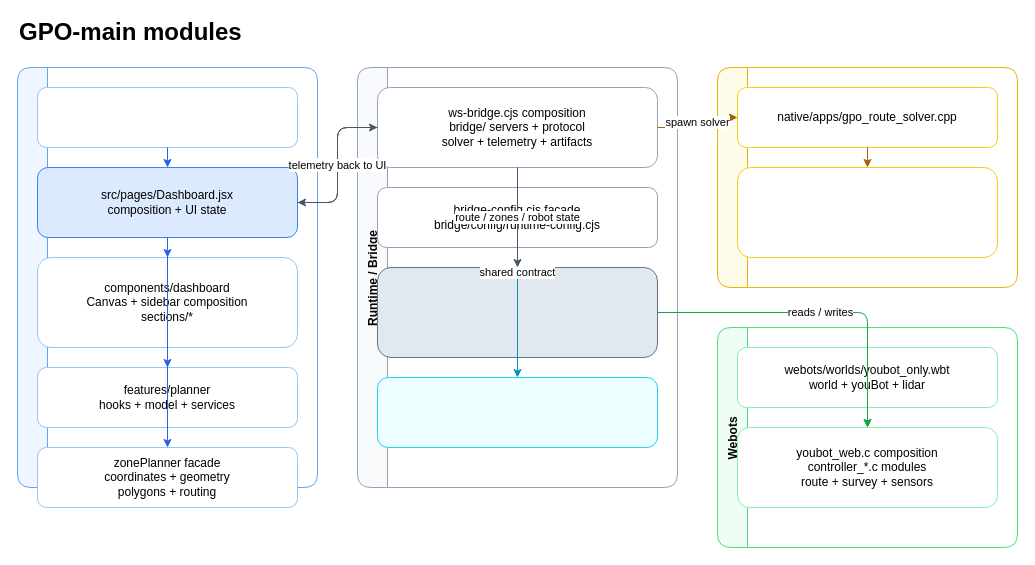
This 1035x565 diagram has some shape labels left out. Each missing label, with the box of its shape:
Frontend: (16, 66, 318, 488)
Native Solver: (716, 66, 1018, 288)
native/src/* ga_tabu.cpp annealing.cpp scatter.cpp cuckoo.cpp common.cpp: (736, 166, 998, 258)
shared/coordinate-contract.json common telemetry / route format: (376, 376, 658, 448)
src/main.jsx src/App.jsx: (36, 86, 298, 148)
web_state/* route.csv / route.json limit_zones.* / robot_state.json: (376, 266, 658, 358)
